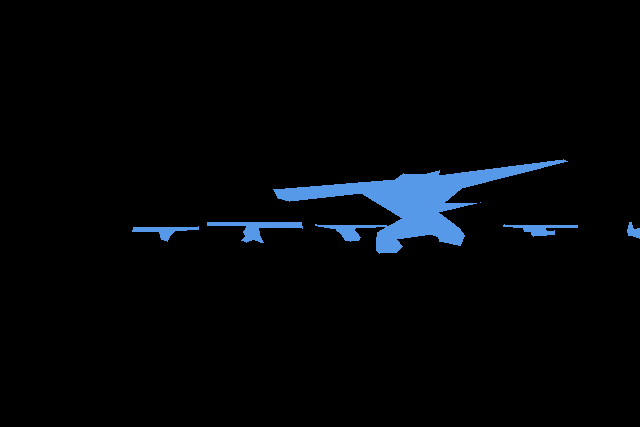Airplane: (273, 159, 567, 253), (207, 222, 303, 243), (315, 224, 388, 241), (132, 226, 199, 241), (503, 224, 577, 236), (627, 222, 640, 238)
